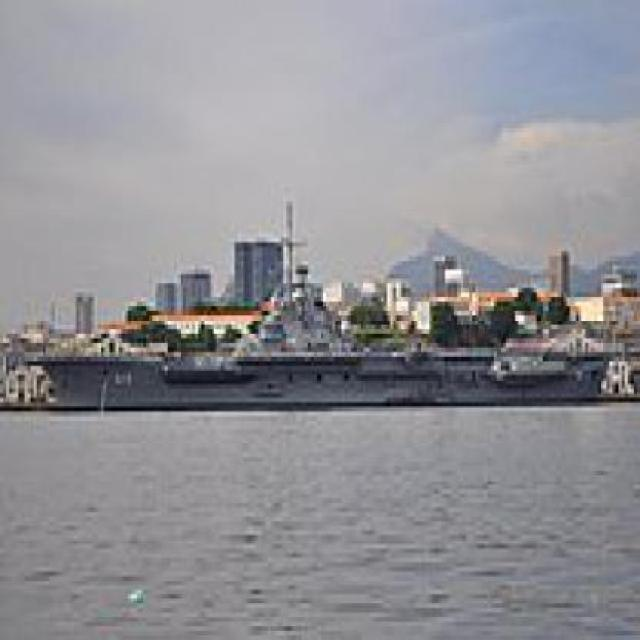warship2: (17, 202, 620, 426)
